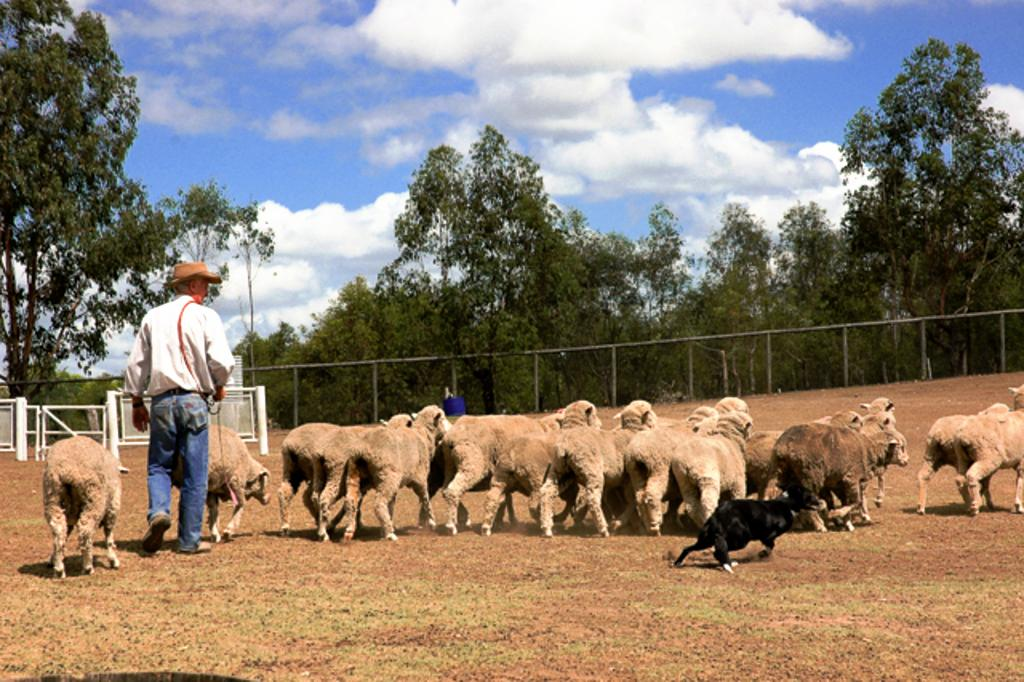Sheep: (437, 405, 569, 537), (625, 402, 747, 538), (283, 413, 410, 541), (350, 405, 449, 541), (917, 399, 1022, 515), (544, 417, 625, 538), (45, 438, 116, 574), (780, 424, 908, 495), (204, 428, 271, 520), (976, 387, 1024, 419), (712, 409, 755, 444), (558, 399, 602, 430), (856, 400, 900, 429), (684, 406, 717, 431)
